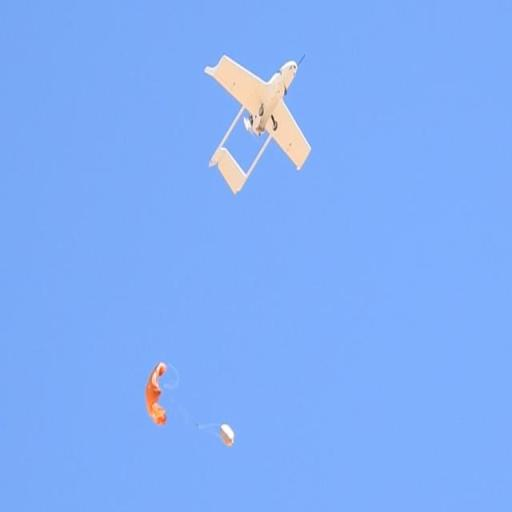uav: (196, 40, 314, 198)
